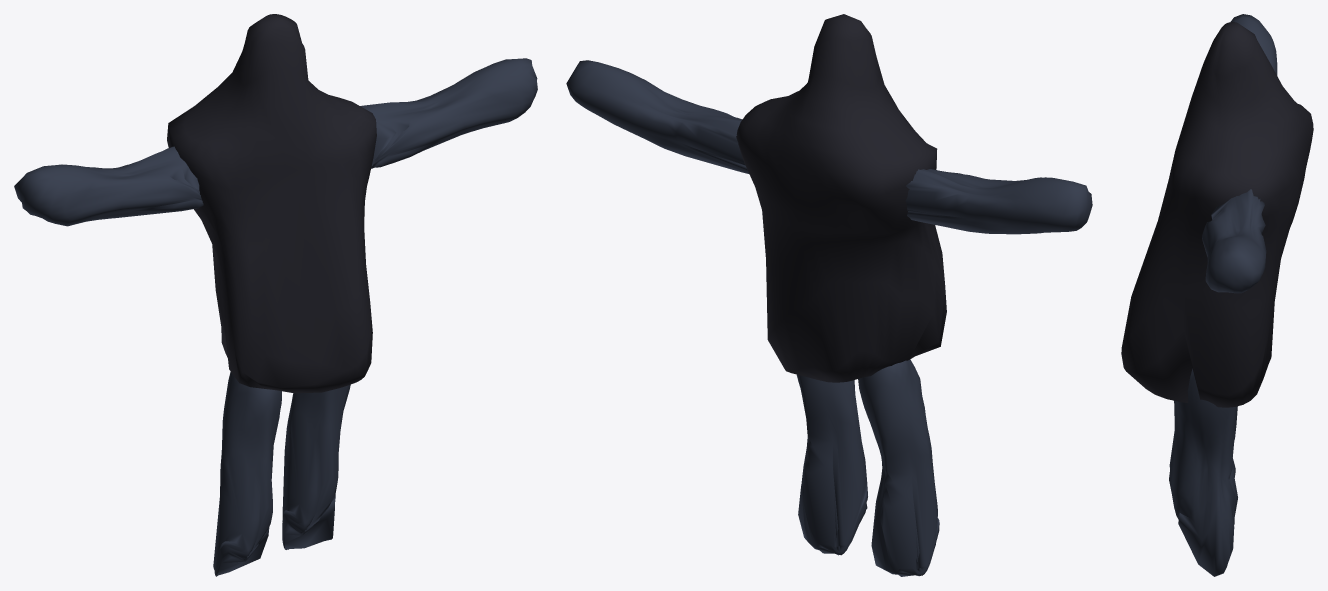
The model's file is coloredEnemy.fbx.
The picture shows the model from 3 angles, left to right: view 1: azimuth 30°, elevation 25°; view 2: azimuth 150°, elevation 25°; view 3: azimuth 270°, elevation 25°; orthographic projection. The views are drawn at different scales.
Parts seen in each view (by area): view 1: Sphere.004; view 2: Sphere.004; view 3: Sphere.004.
Boxes of the visible parts, x1=… form: Sphere.004: x1=14, y1=14, x2=537, y2=576; Sphere.004: x1=566, y1=14, x2=1092, y2=576; Sphere.004: x1=1121, y1=14, x2=1313, y2=576.
Size of the model in its own units: 459 by 468 by 151.
Materials: 1 (1 with a texture image).
